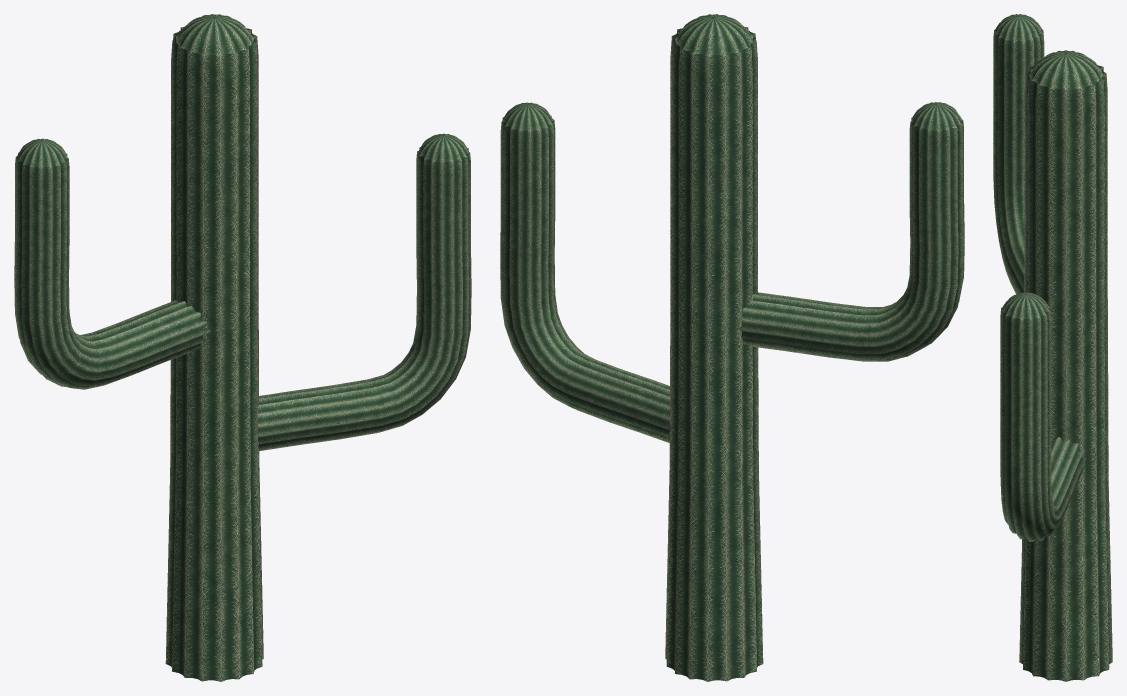
The model's file is cactus_saguaro_01.glb.
3 renders of one model, left to right at view 1: azimuth 30°, elevation 25°; view 2: azimuth 150°, elevation 25°; view 3: azimuth 270°, elevation 25°, orthographic. The views are drawn at different scales.
Parts seen in each view (by area): view 1: cactus_saguaro_01; view 2: cactus_saguaro_01; view 3: cactus_saguaro_01.
Boxes of the visible parts, bbox=[...] form: cactus_saguaro_01: bbox=[14, 14, 471, 681]; cactus_saguaro_01: bbox=[500, 14, 964, 681]; cactus_saguaro_01: bbox=[993, 14, 1112, 681].
Size of the model in its own units: 3.32 by 4.5 by 0.8026.
1 material, 1 textured.
